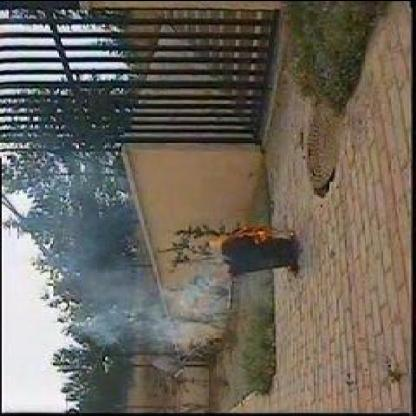-: (65, 266, 226, 343)
foggia-v2-map80-epoch100 - v1 4323: (206, 224, 270, 248)
